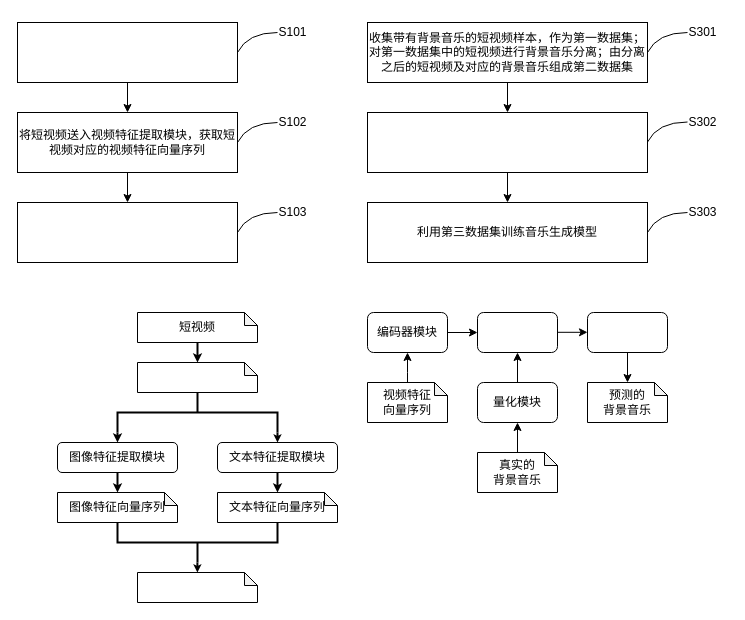
The diagram is 745 pixels wide and 620 high, and some of its shapes have lost their labels. The centre of each missing label's shape, as x and y in pixels:
"图像序列" goes at point (197, 377).
"将第二数据集中的短视频送入视频特征提取模块，获取每个短视频的视频特征向量序列，并与背景音乐组成第三数据集" goes at point (507, 142).
"将视频特征向量序列送入音乐生成模型，为短视频生成对应的背景音乐" goes at point (127, 232).
"获取待添加背景音乐的短视频" goes at point (127, 52).
"视频特征向量序列" goes at point (197, 587).
"解码器模块" goes at point (517, 332).
"解量化模块" goes at point (627, 332).
